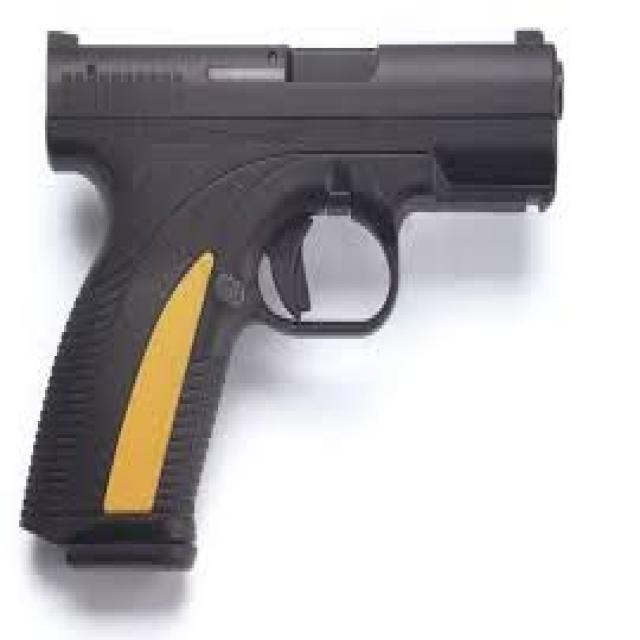Gun: (32, 15, 552, 555)
